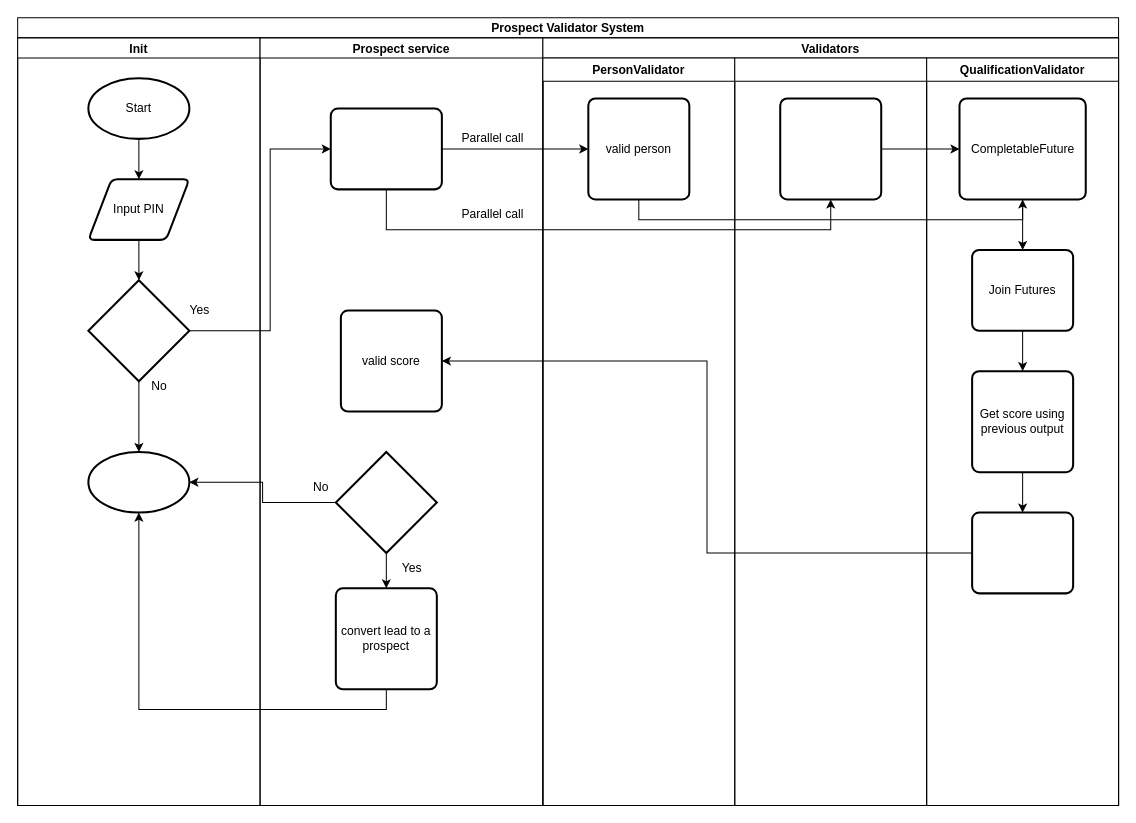
The diagram is 1136 pixels wide and 823 high, and some of its shapes have lost their labels. The box of each missing label's shape, as (x1, y1, x2, y2) in pixels:
End: (87, 450, 190, 513)
Init validation: (329, 107, 442, 190)
is a valid input?: (87, 279, 190, 382)
JudicialValidator: (734, 57, 927, 805)
return result: (971, 511, 1074, 594)
score > 60 ?: (334, 450, 437, 553)
valid if person has judicial records: (779, 97, 882, 200)
